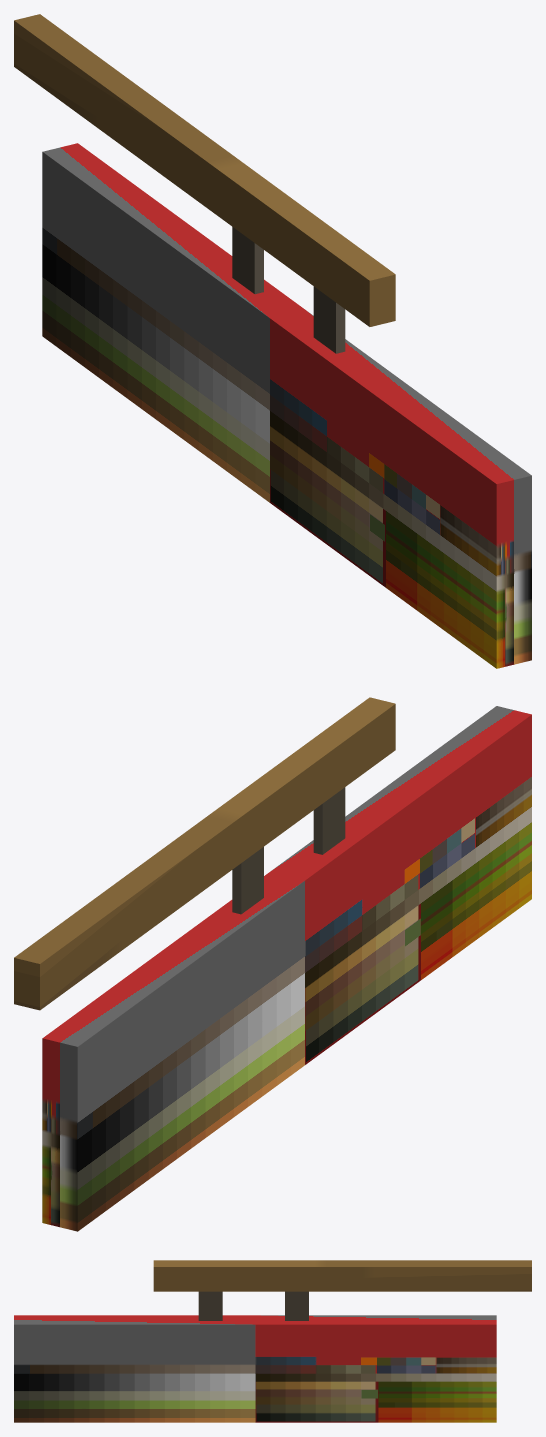
File: bouton debut.fbx
3 renders of one model, top to bottom at view 1: azimuth 30°, elevation 25°; view 2: azimuth 150°, elevation 25°; view 3: azimuth 270°, elevation 25°, orthographic. The views are drawn at different scales.
Parts seen in each view (by area): view 1: polySurface8, polySurface7; view 2: polySurface8, polySurface7; view 3: polySurface8, polySurface7.
Part boxes in pixels (left/top/right/bottom): polySurface8: left=42, top=143, right=531, bottom=668; polySurface7: left=14, top=14, right=395, bottom=353; polySurface8: left=42, top=706, right=531, bottom=1231; polySurface7: left=14, top=697, right=395, bottom=1010; polySurface8: left=14, top=1315, right=496, bottom=1422; polySurface7: left=153, top=1260, right=531, bottom=1320.
Size of the model in its own units: 0.2229 by 1.75 by 5.33.
